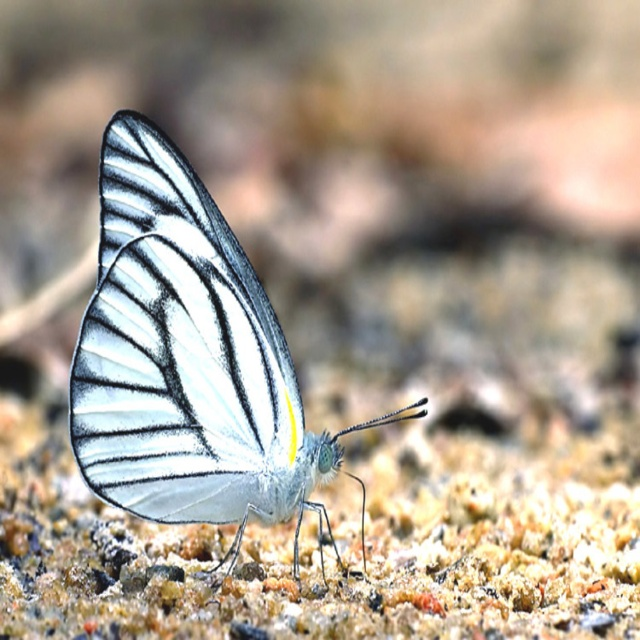Butterfly: (65, 109, 429, 590)
